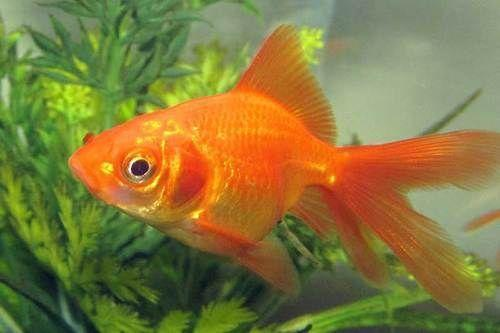Gold Fish: (72, 20, 500, 315)
